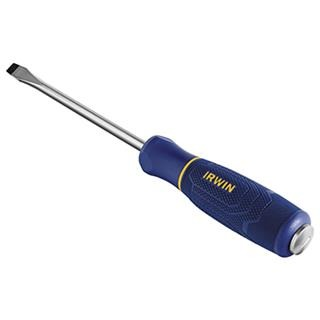screwdriver: (4, 60, 314, 260)
